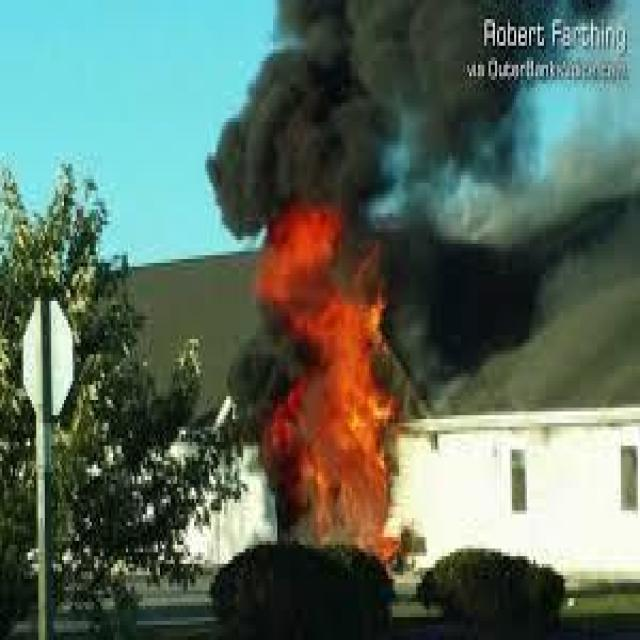fire: (241, 196, 425, 563)
smoke: (200, 2, 555, 236)
